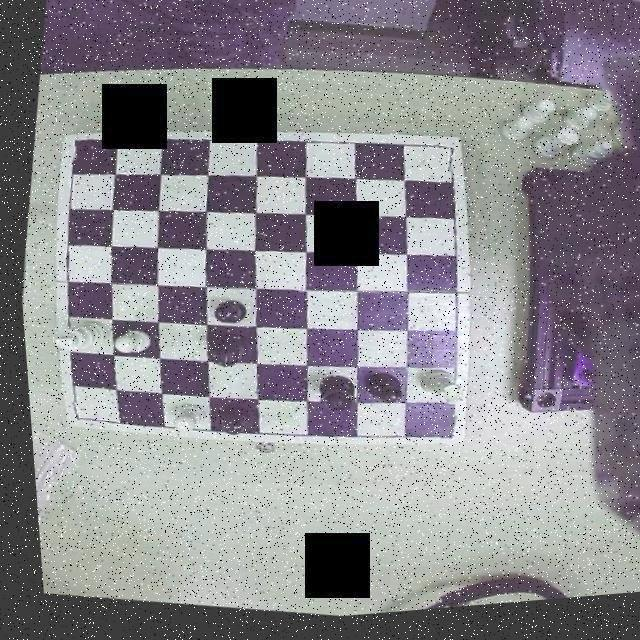chess-table-corners: (422, 142, 461, 180), (422, 416, 457, 452), (61, 129, 95, 163), (58, 400, 90, 430)
